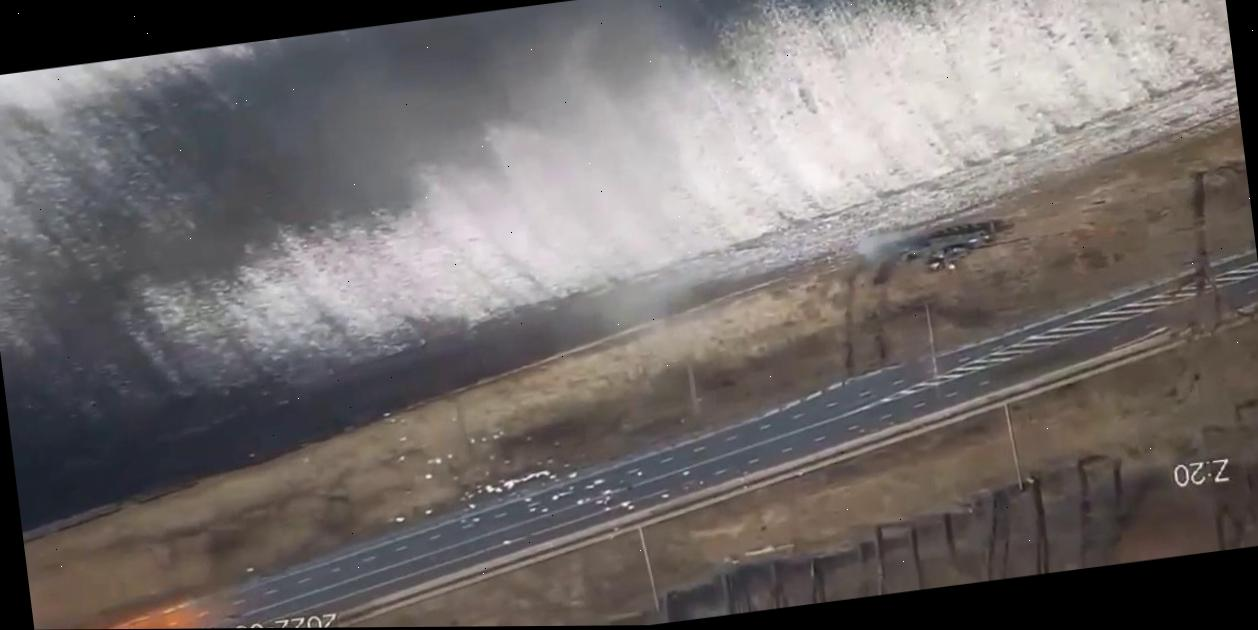tank: (898, 215, 1032, 278)
